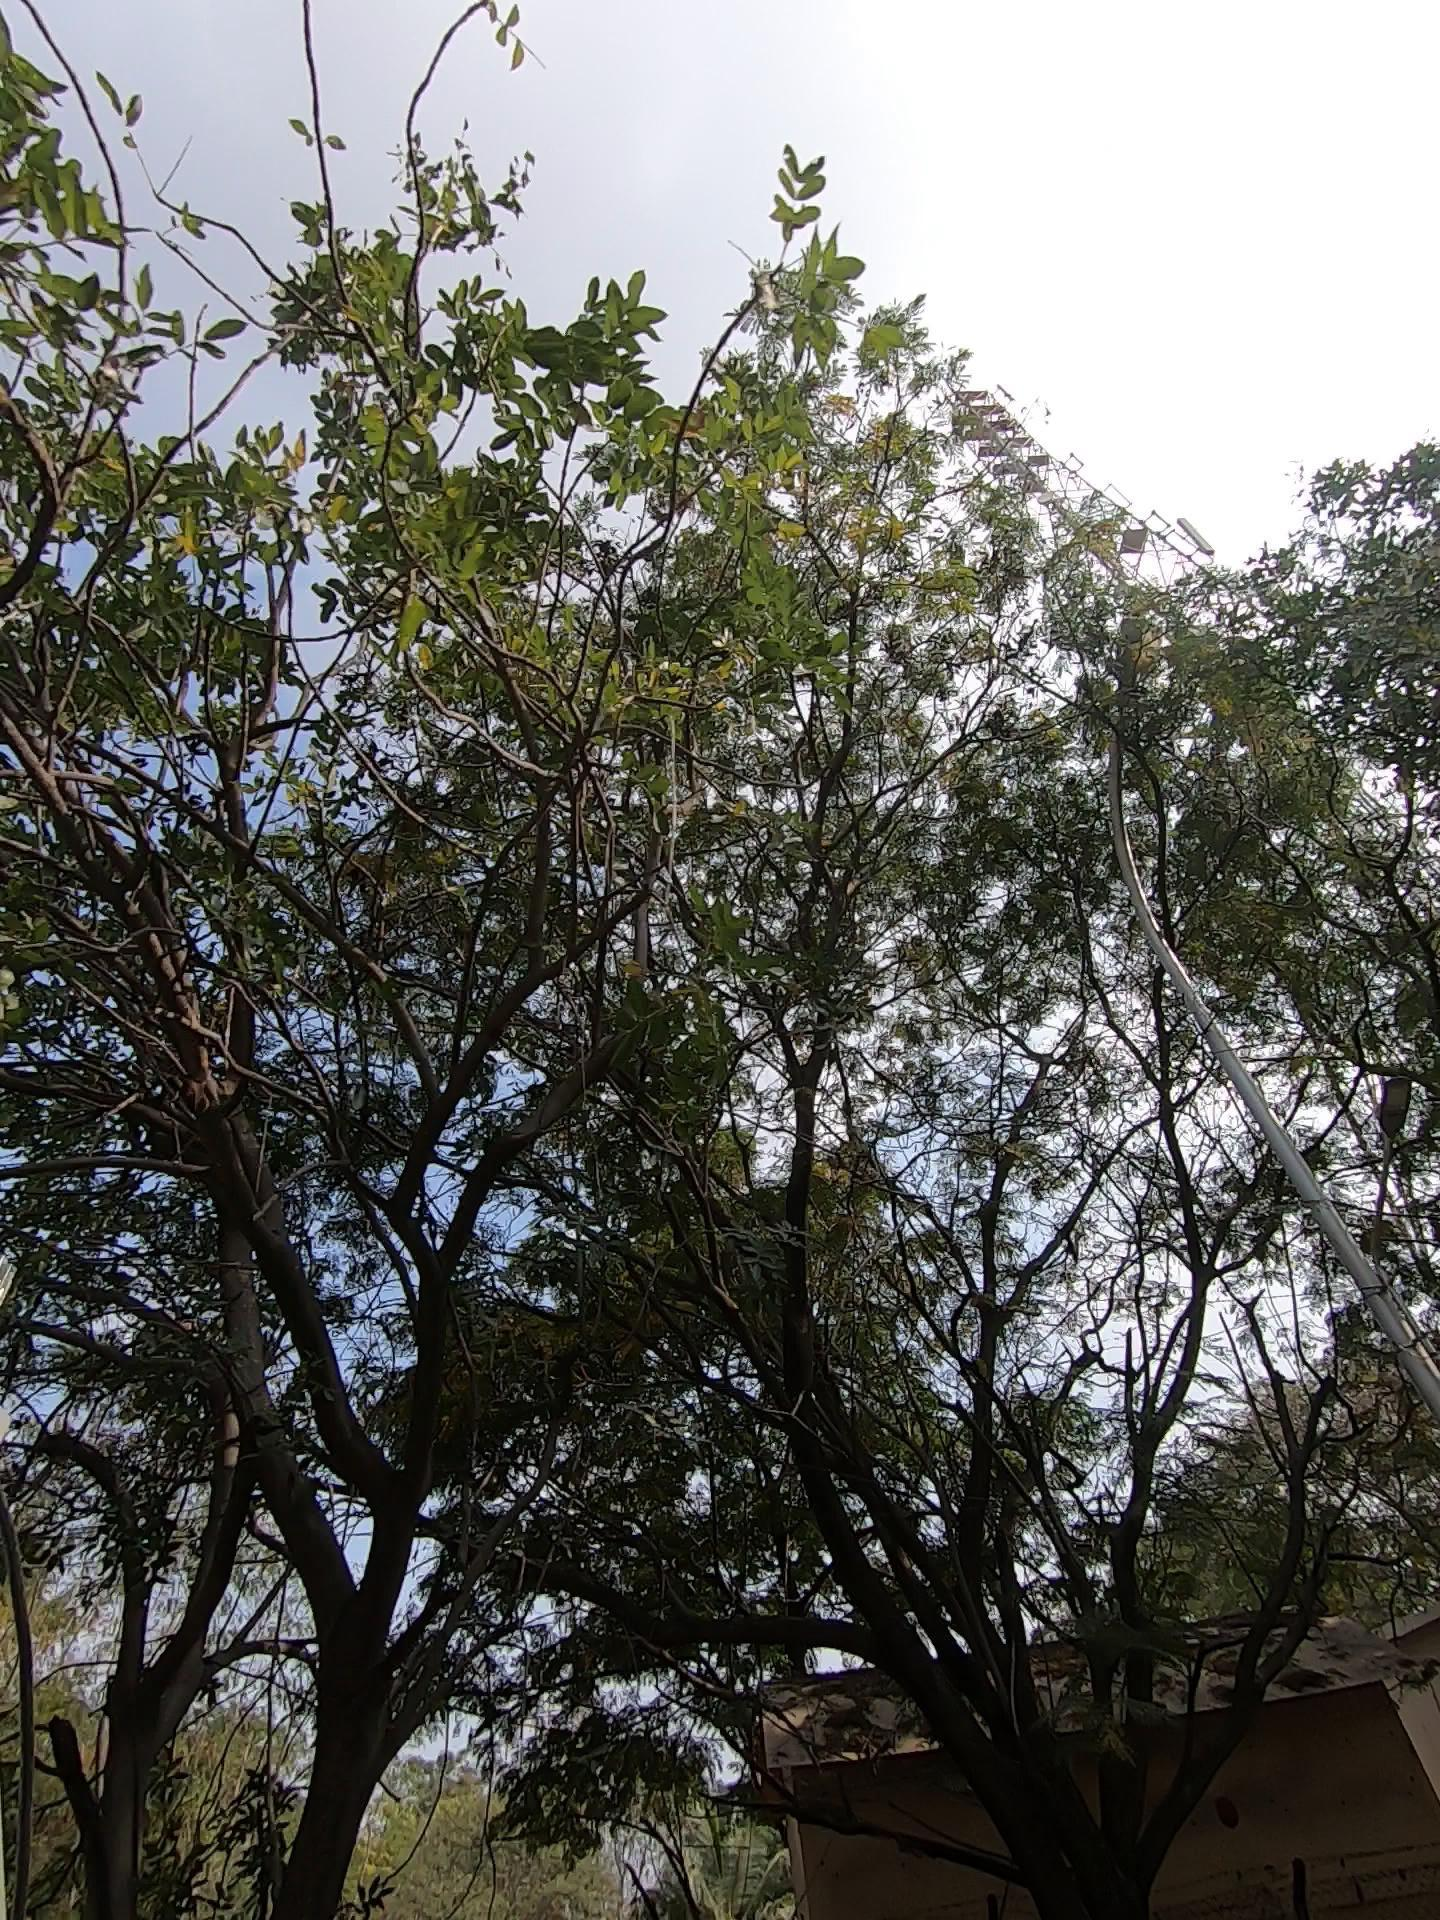off: (340, 546, 1231, 1335)
